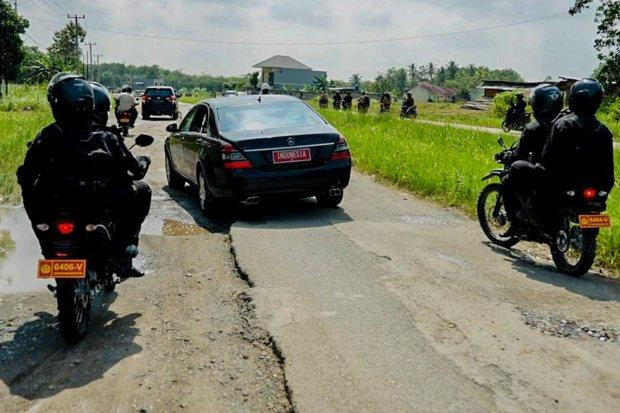Pothole: (497, 223, 610, 367), (148, 174, 248, 243)
